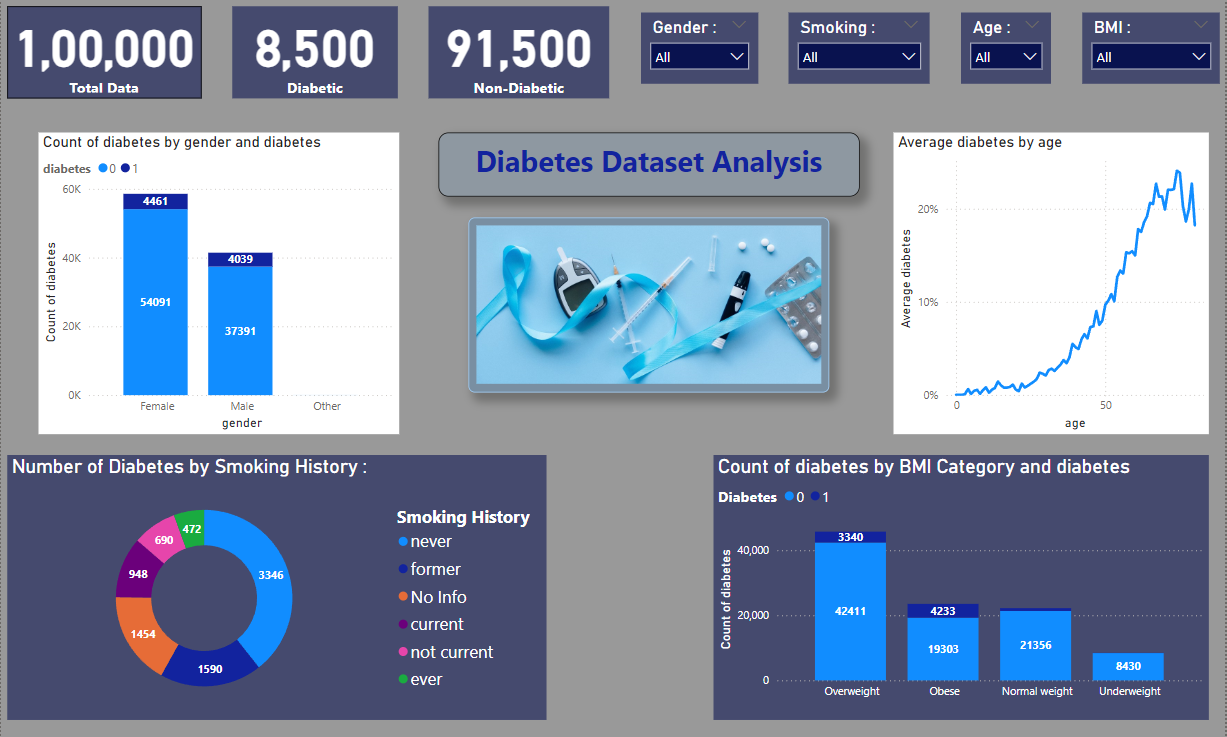

What the dashboard file says about the page in this screenshot:
{"tool":"powerbi","page":{"name":"Diabetes","canvas":[1360,820],"ordinal":0},"visuals":[{"type":"columnChart","fields":{"Category":["diabetes_prediction_dataset.gender"],"Y":["CountNonNull(diabetes_prediction_dataset.diabetes)"],"Series":["diabetes_prediction_dataset.diabetes"]},"box":[41.1,146.7,401.1,335.6],"z":0},{"type":"lineChart","fields":{"Category":["diabetes_prediction_dataset.age"],"Y":["diabetes_prediction_dataset.Average diabetes"]},"box":[991.1,146.7,350,335.6],"z":1000},{"type":"donutChart","title":"Number of Diabetes by Smoking History :","fields":{"Category":["diabetes_prediction_dataset.smoking_history"],"Y":["Sum(diabetes_prediction_dataset.diabetes)"]},"box":[6.7,505.6,598.9,294.4],"z":2000},{"type":"slicer","fields":{"Values":["diabetes_prediction_dataset.gender"]},"box":[711,14,130,79],"z":3000},{"type":"slicer","fields":{"Values":["framingham_heart_disease.age"]},"box":[875.3,14,157,79],"z":4000},{"type":"slicer","fields":{"Values":["framingham_heart_disease.age"]},"box":[1066.7,14,100,79],"z":5000},{"type":"card","fields":{"Values":["Sum(diabetes_prediction_dataset.diabetes)"]},"box":[257.3,7,184,102],"z":6000},{"type":"card","fields":{"Values":["diabetes_prediction_dataset.Total Data"]},"box":[7,7,216,102],"z":7000},{"type":"card","fields":{"Values":["diabetes_prediction_dataset.Non-Diabetic"]},"box":[475.7,7,201,102],"z":8000},{"type":"columnChart","fields":{"Category":["diabetes_prediction_dataset.BMI Category"],"Y":["CountNonNull(diabetes_prediction_dataset.diabetes)"],"Series":["diabetes_prediction_dataset.diabetes"]},"box":[791.1,505.6,550,294.4],"z":9000},{"type":"slicer","fields":{"Values":["framingham_heart_disease.BMI Category"]},"box":[1201,14,153,79],"z":10000},{"type":"image","box":[518.9,242.2,401.1,194.4],"z":11000},{"type":"textbox","box":[485.6,146.7,467.8,71.1],"z":12000}]}

Visuals, with their boxes in screenshot pixels (x1, y1, x2, y2), scaled from the page's 1360x820 canvas onto the 1227x737 screenshot:
columnChart - diabetes_prediction_dataset.gender x CountNonNull(diabetes_prediction_dataset.diabetes): <region>37, 132, 399, 433</region>
lineChart - diabetes_prediction_dataset.age x diabetes_prediction_dataset.Average diabetes: <region>894, 132, 1210, 433</region>
"Number of Diabetes by Smoking History :" donutChart: <region>6, 454, 546, 719</region>
slicer - diabetes_prediction_dataset.gender: <region>641, 13, 759, 84</region>
slicer - framingham_heart_disease.age: <region>790, 13, 931, 84</region>
slicer - framingham_heart_disease.age: <region>962, 13, 1053, 84</region>
card - Sum(diabetes_prediction_dataset.diabetes): <region>232, 6, 398, 98</region>
card - diabetes_prediction_dataset.Total Data: <region>6, 6, 201, 98</region>
card - diabetes_prediction_dataset.Non-Diabetic: <region>429, 6, 611, 98</region>
columnChart - diabetes_prediction_dataset.BMI Category x CountNonNull(diabetes_prediction_dataset.diabetes): <region>714, 454, 1210, 719</region>
slicer - framingham_heart_disease.BMI Category: <region>1084, 13, 1222, 84</region>
image: <region>468, 218, 830, 392</region>
textbox: <region>438, 132, 860, 196</region>
